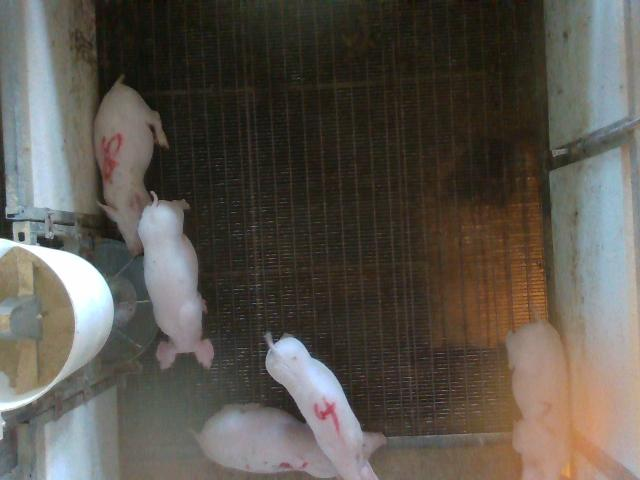pig-2: (506, 320, 570, 479)
pig-3: (195, 404, 338, 478)
pig-4: (265, 334, 378, 479)
pig-5: (94, 75, 169, 256)
